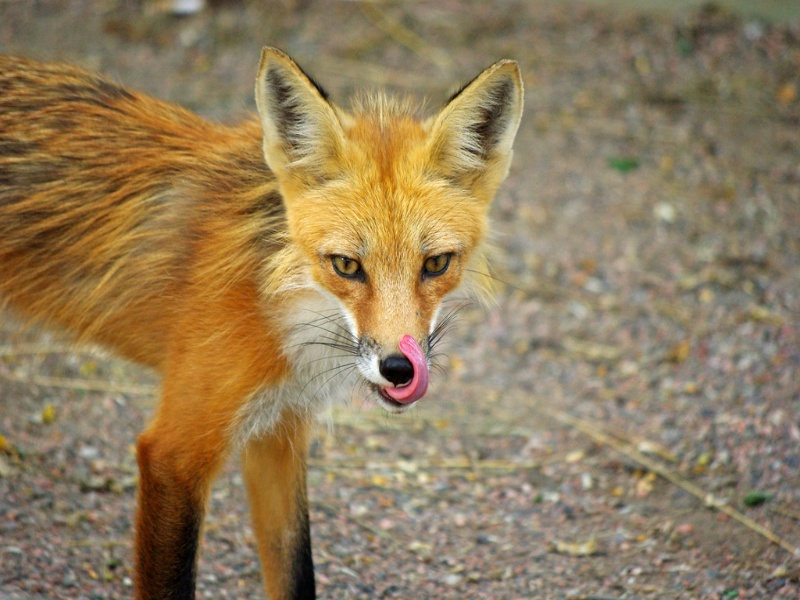fox: (13, 46, 530, 600)
